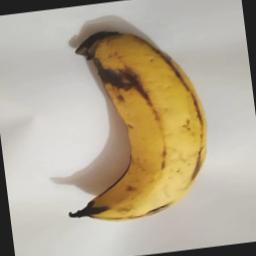Banana Unripe: (44, 5, 218, 230)
